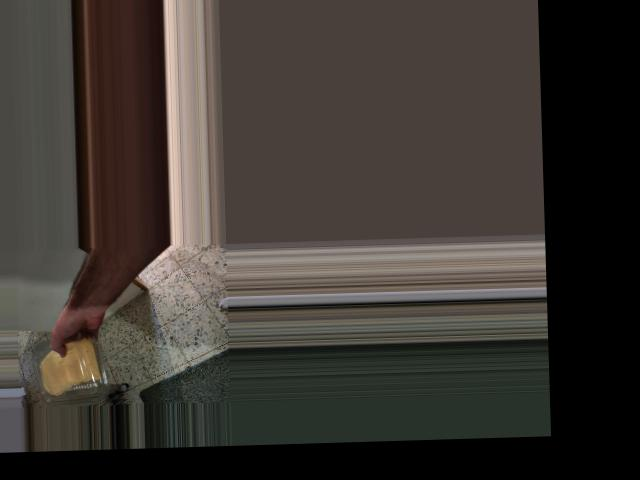cheese: (36, 334, 107, 401)
